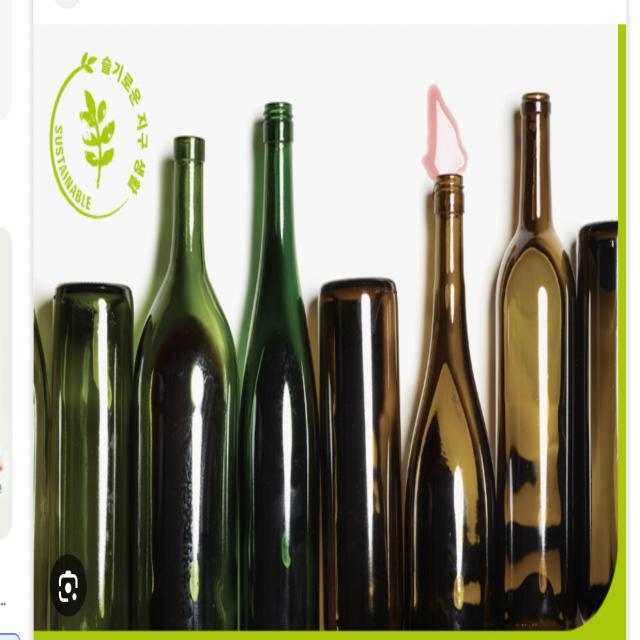recyclable: (128, 128, 241, 629), (488, 79, 580, 637), (236, 59, 318, 638), (409, 172, 499, 626), (321, 255, 408, 631)
